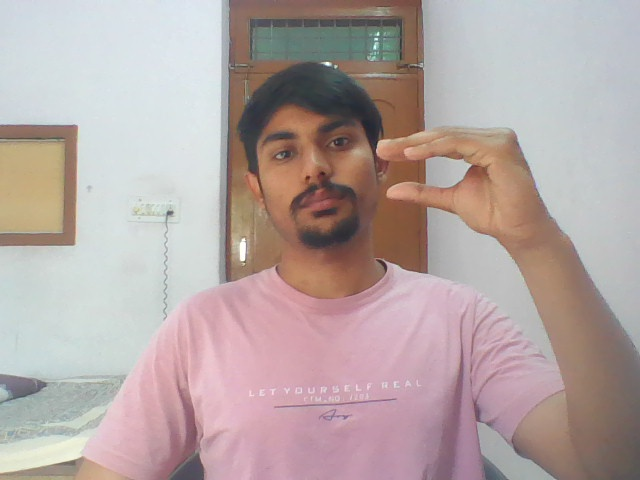No: (372, 122, 550, 241)
